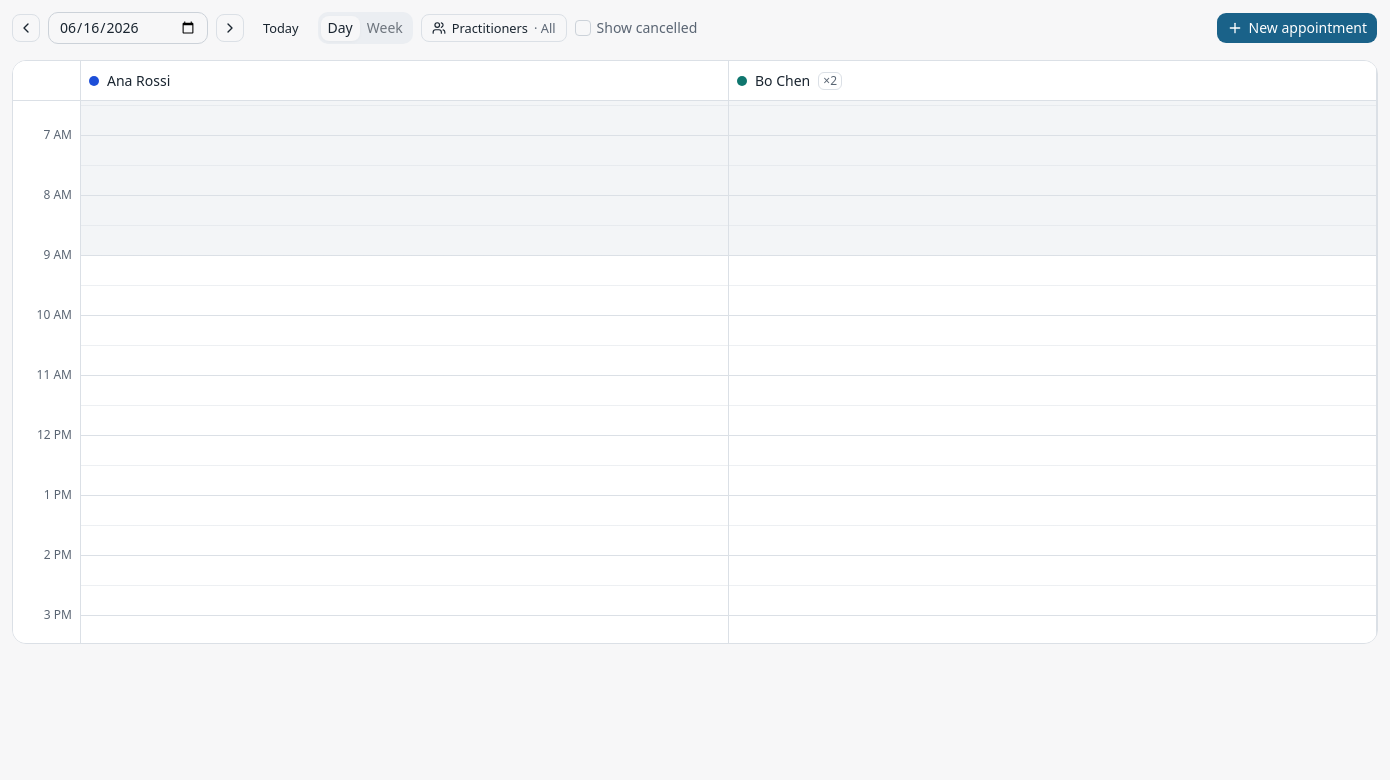
Test: the page opens on the business's today, whatever the browser's clock says
The width and height of the screenshot is (1390, 780).
(page scrolled)
Expected: the date field named "Day" holds "2026-06-16", [48, 12, 208, 44]
Click the button named "Next day" at (230, 28), box [216, 14, 244, 42]
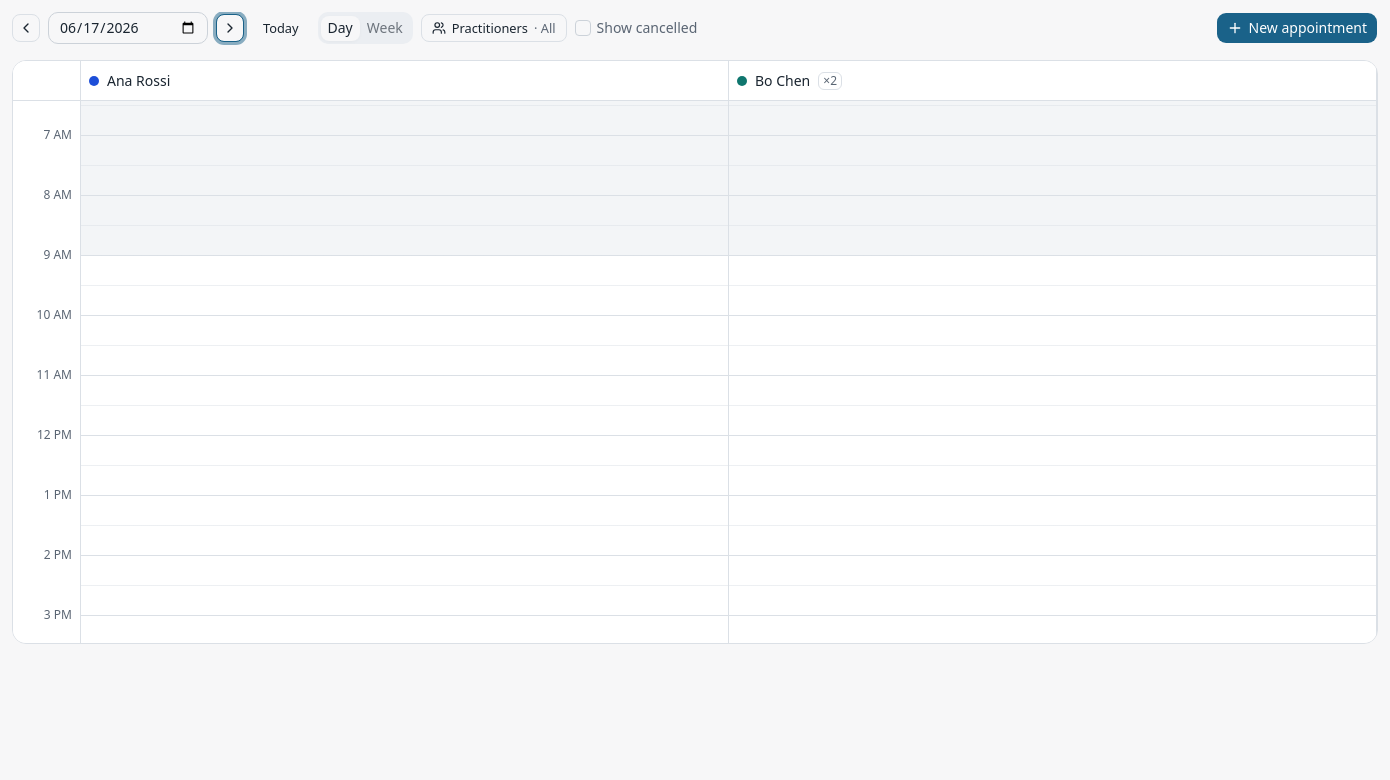
Expected: the date field named "Day" holds "2026-06-17", [48, 12, 208, 44]
Click the button "Today" at (281, 28), box [252, 14, 310, 42]
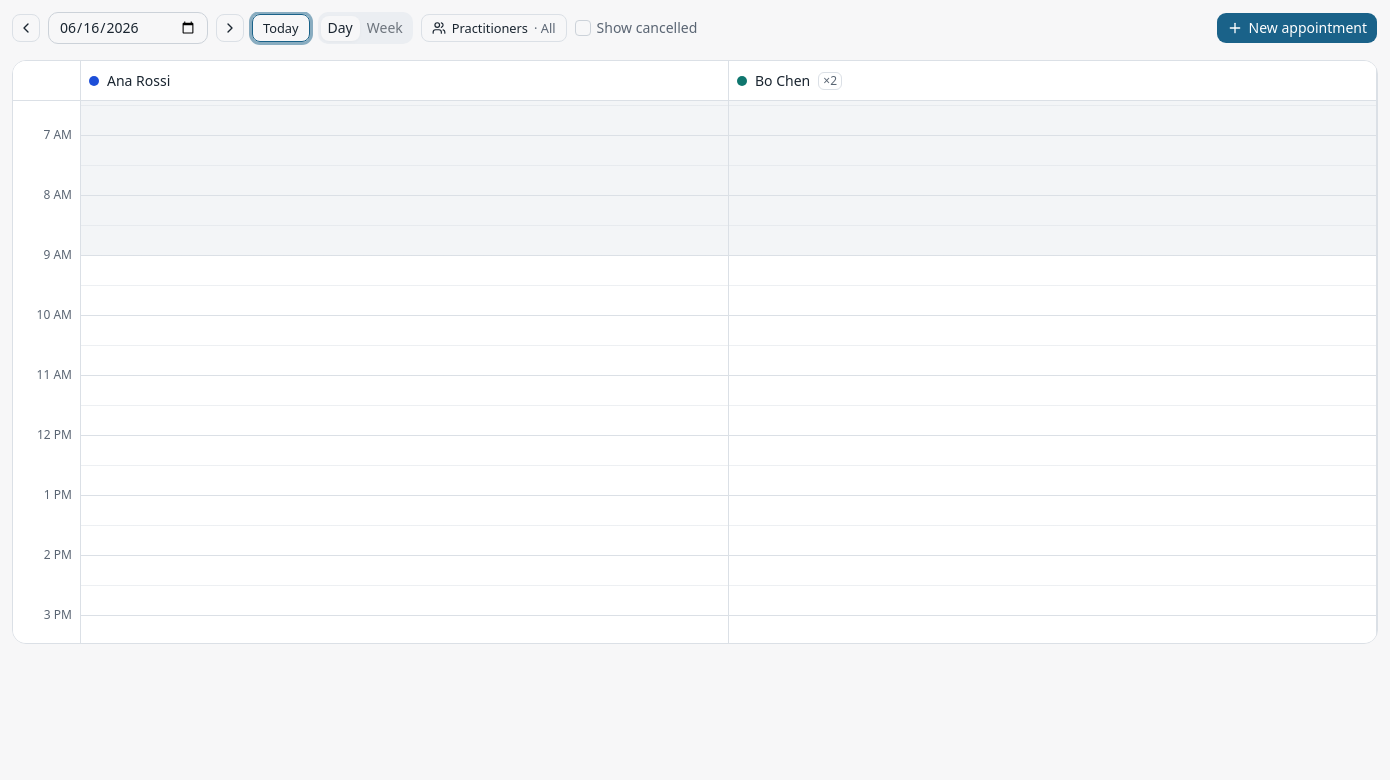
Expected: the date field named "Day" holds "2026-06-16", [48, 12, 208, 44]
